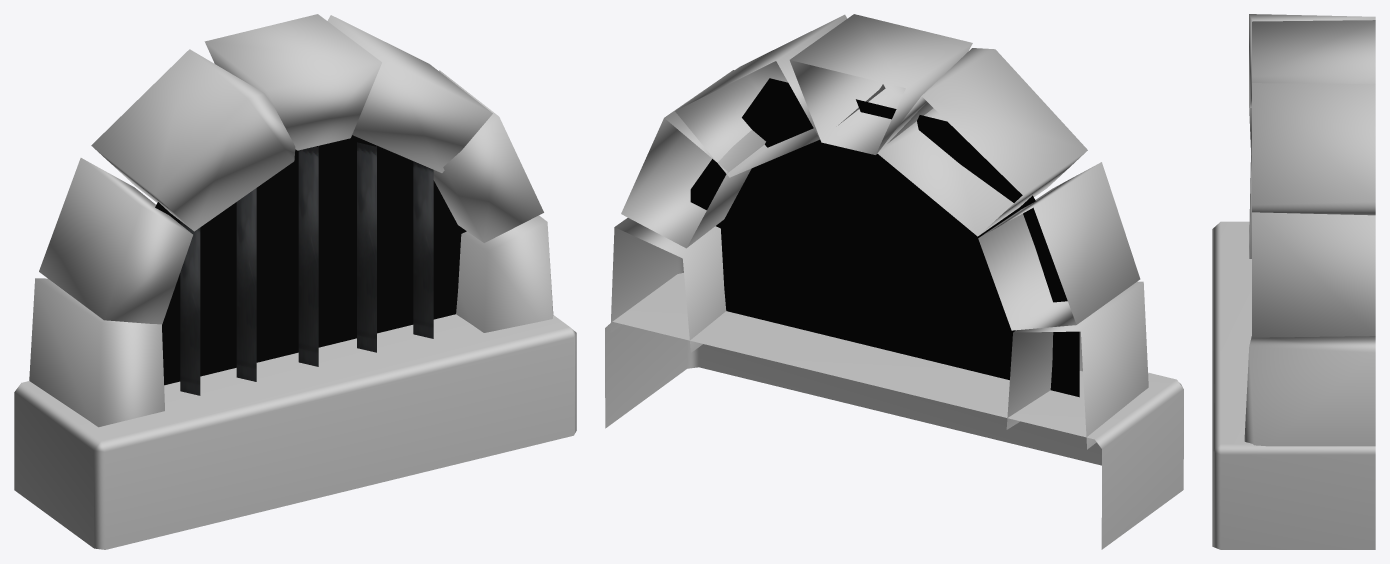
File: SewerDrain_1.fbx
3 views of the same model, side by side, from view 1: azimuth 30°, elevation 25°; view 2: azimuth 150°, elevation 25°; view 3: azimuth 270°, elevation 25° (orthographic). The views are drawn at different scales.
Visible parts, largest first — view 1: Mesh; view 2: Mesh; view 3: Mesh.
Boxes of the visible parts, x1,y1,x2,y2 form: Mesh: (14, 14, 576, 549); Mesh: (605, 14, 1183, 549); Mesh: (1212, 14, 1375, 549).
Size of the model in its own units: 134 by 107 by 40.38.
